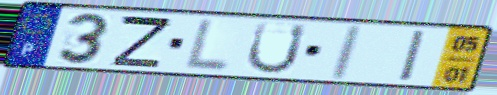3: (56, 10, 111, 66)
I: (325, 23, 367, 83), (397, 28, 430, 84)
L: (180, 17, 234, 75)
U: (243, 20, 310, 76)
Z: (108, 13, 174, 70)
